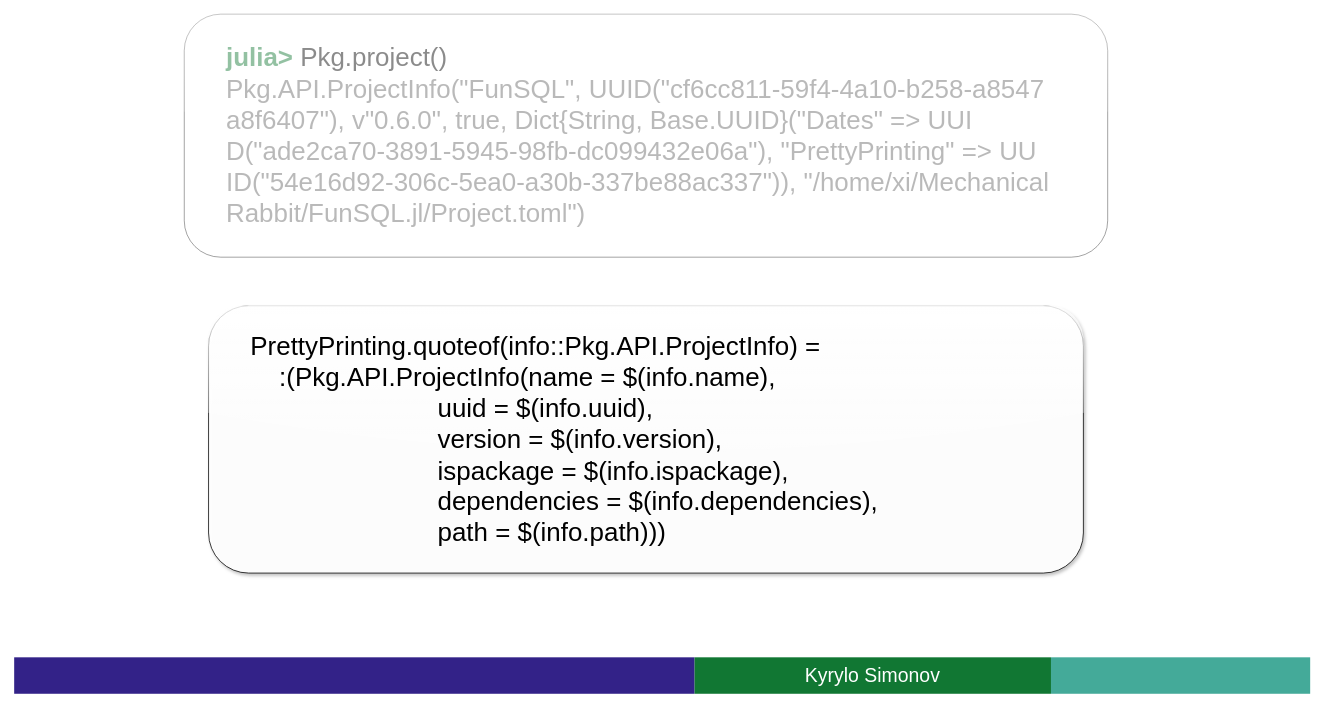
Some shapes in this 1324 by 708 pixel diagram are drawn without their labels. Each missing label, with the centre of its shape:
JuliaCon 2021: [1180,675]
PrettyPrinting: optimal layout for code and data: [354,675]
